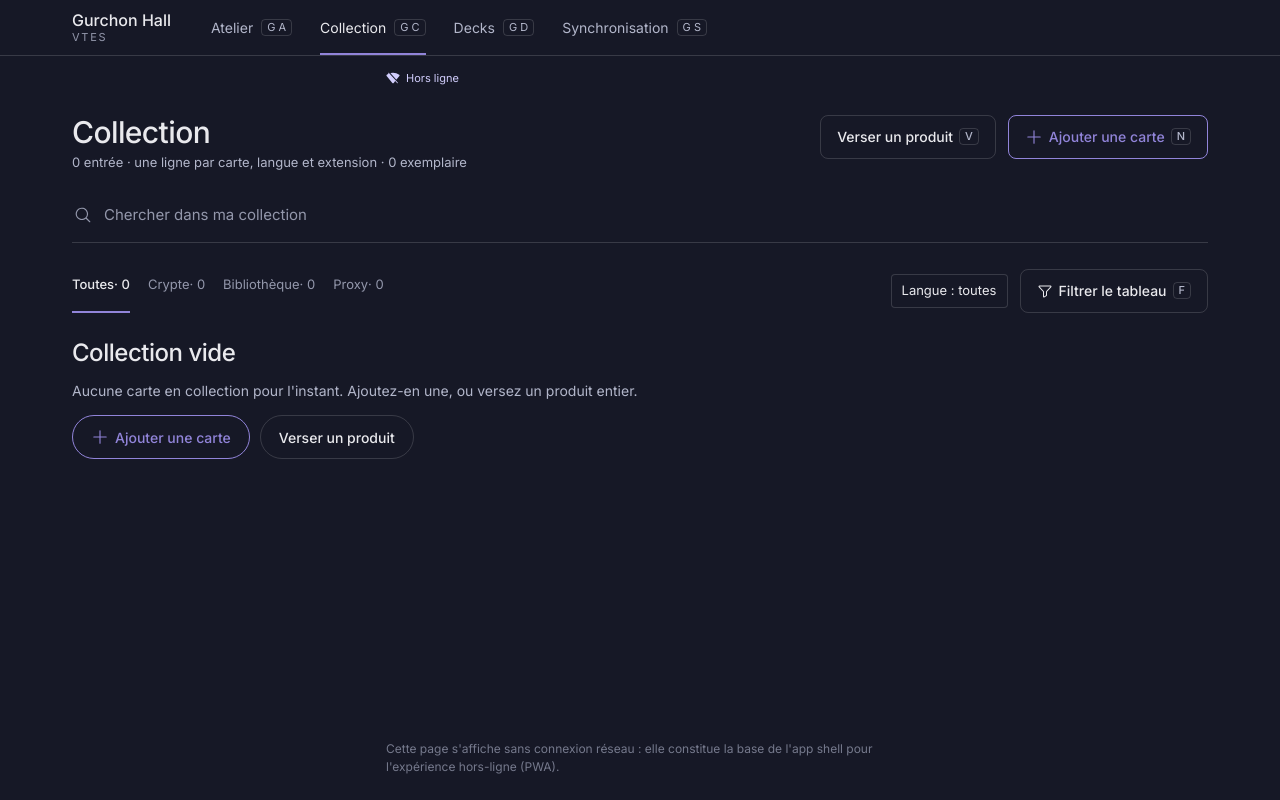
Scenario: collection : saisie hors ligne › enregistre une carte à 0 exemplaire sous sa dernière version, sans demander l'extension (D2a)
The width and height of the screenshot is (1280, 800).
Click the button with test id "stock-add" at [161, 437], box [72,415,250,459]
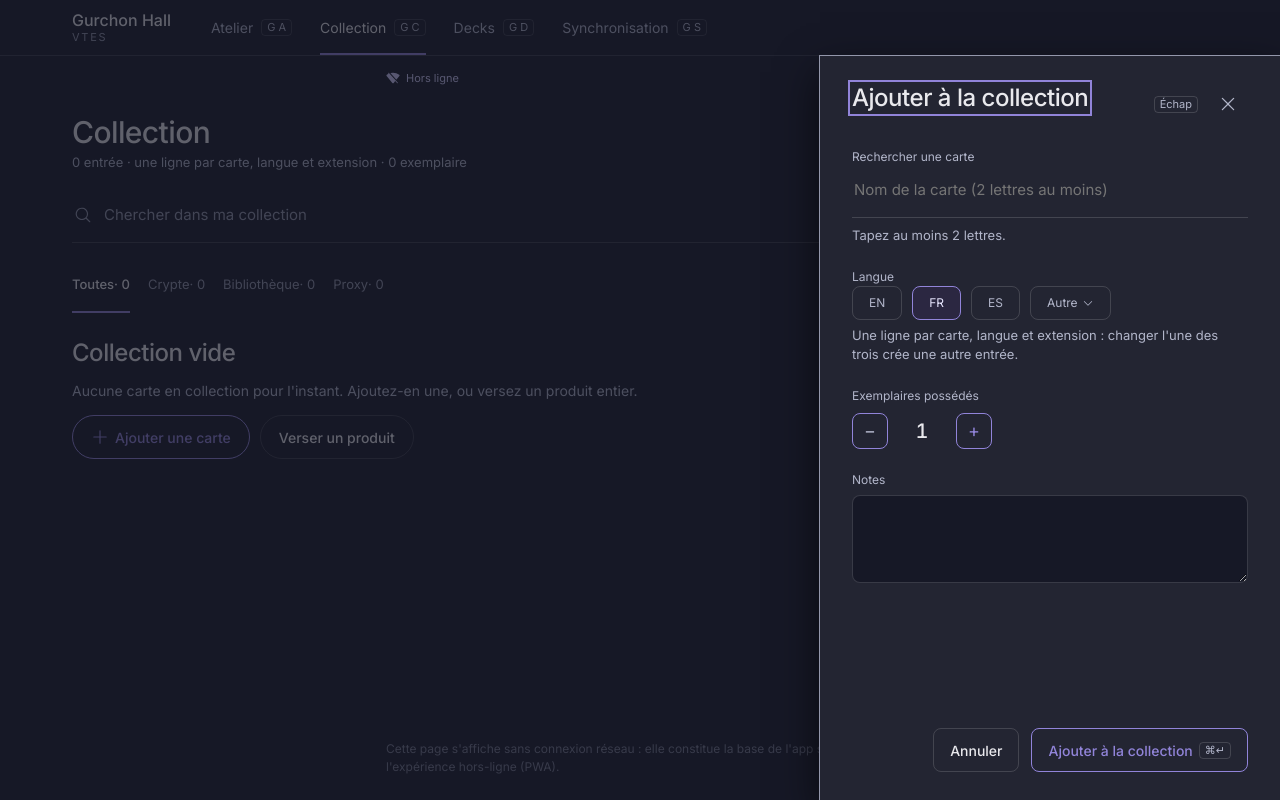
Type "elan" into the search field labelled "Rechercher une carte" at [1050, 196], box [852,174,1248,218]
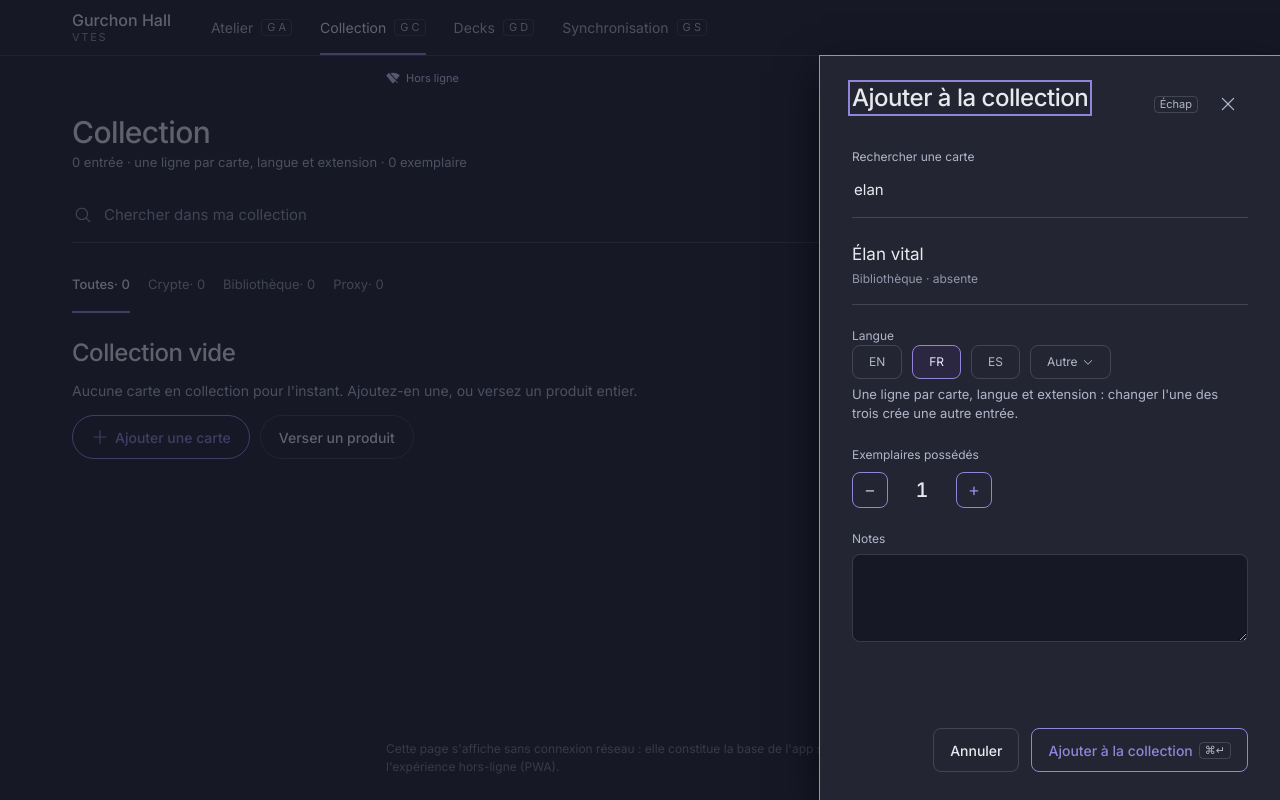
Click the button with test id "card-picker-option" at [888, 254], box [852,226,1248,304]
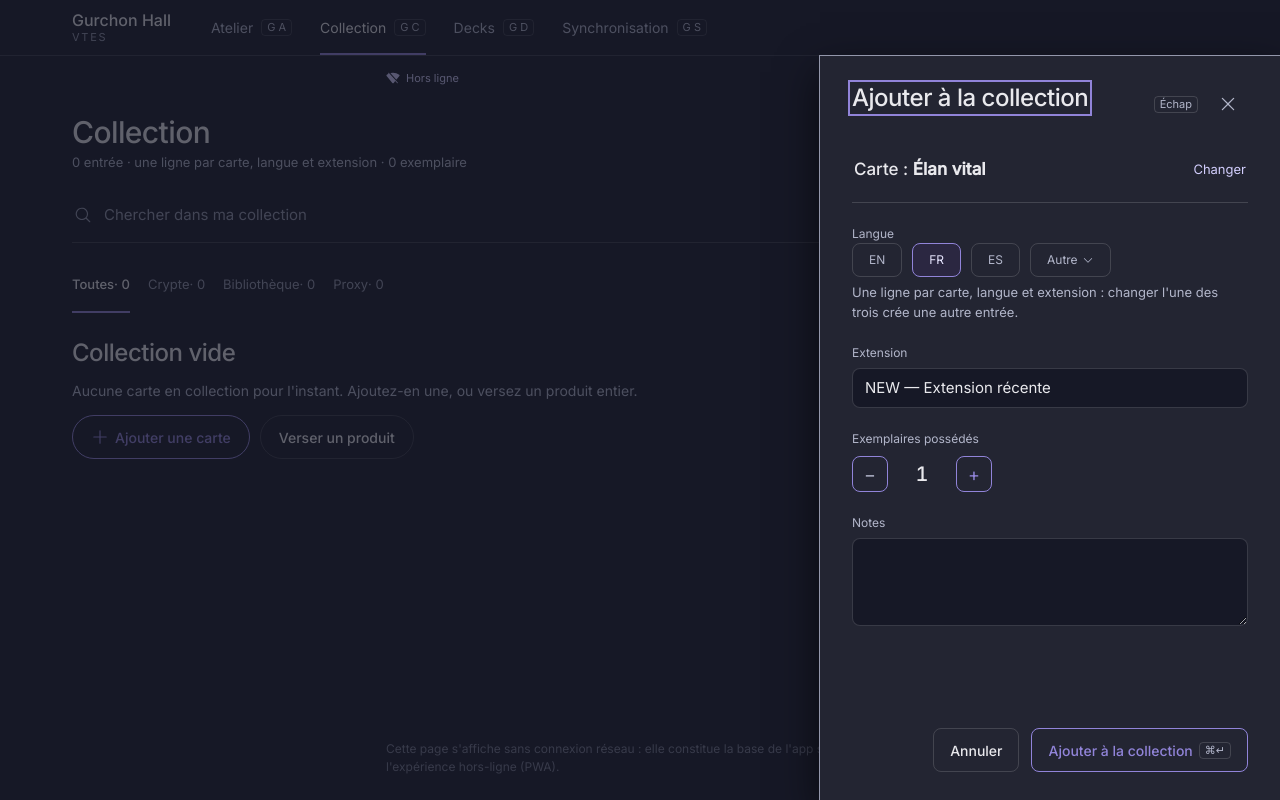
Expected: the element with test id "stock-form-card" is shown, [852,148,1248,203]
Replace the text in the number field labelled "Exemplaires possédés" with "0" at [922, 474], box [898,459,946,489]
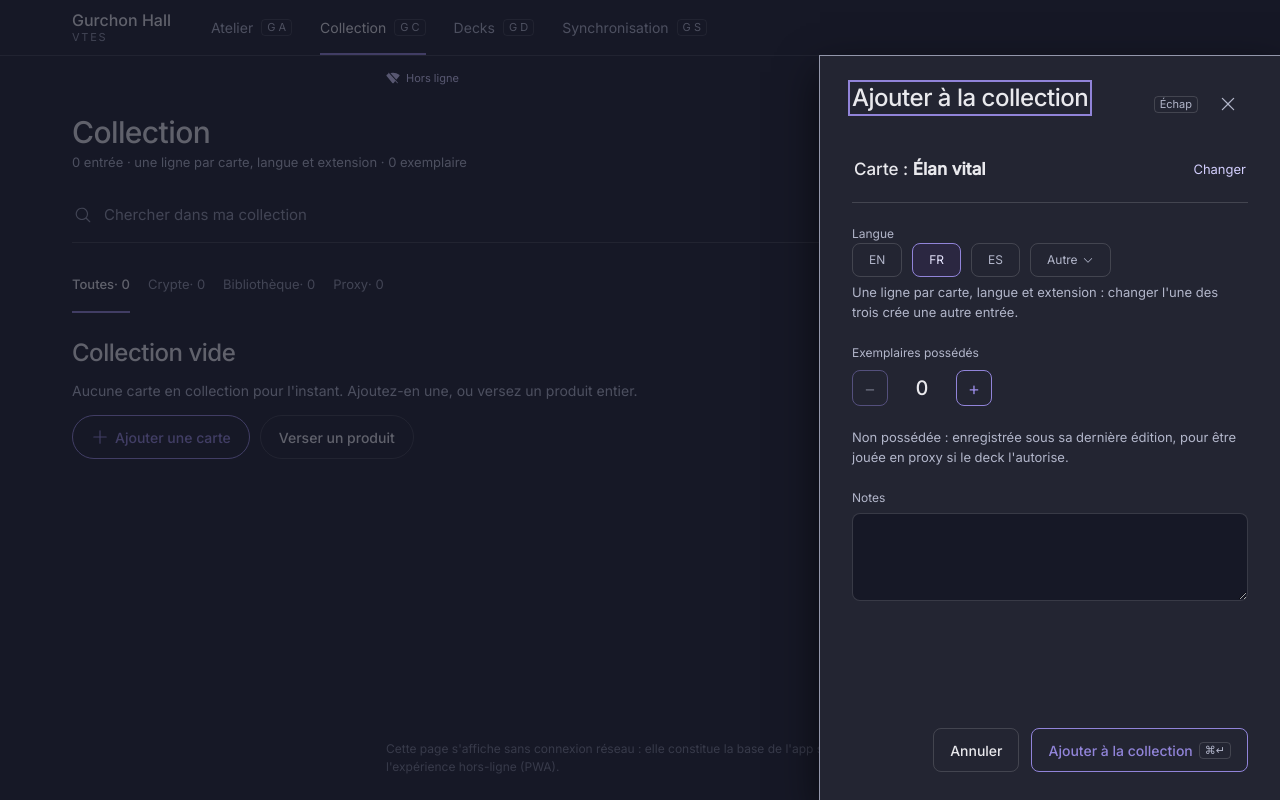
Expected: the dropdown with test id "stock-form-card-set" is gone
Expected: the text with test id "stock-form-proxy-hint" is shown, [852,428,1248,467]
Click the button with test id "stock-form-submit" at [1140, 750], box [1032,728,1248,772]
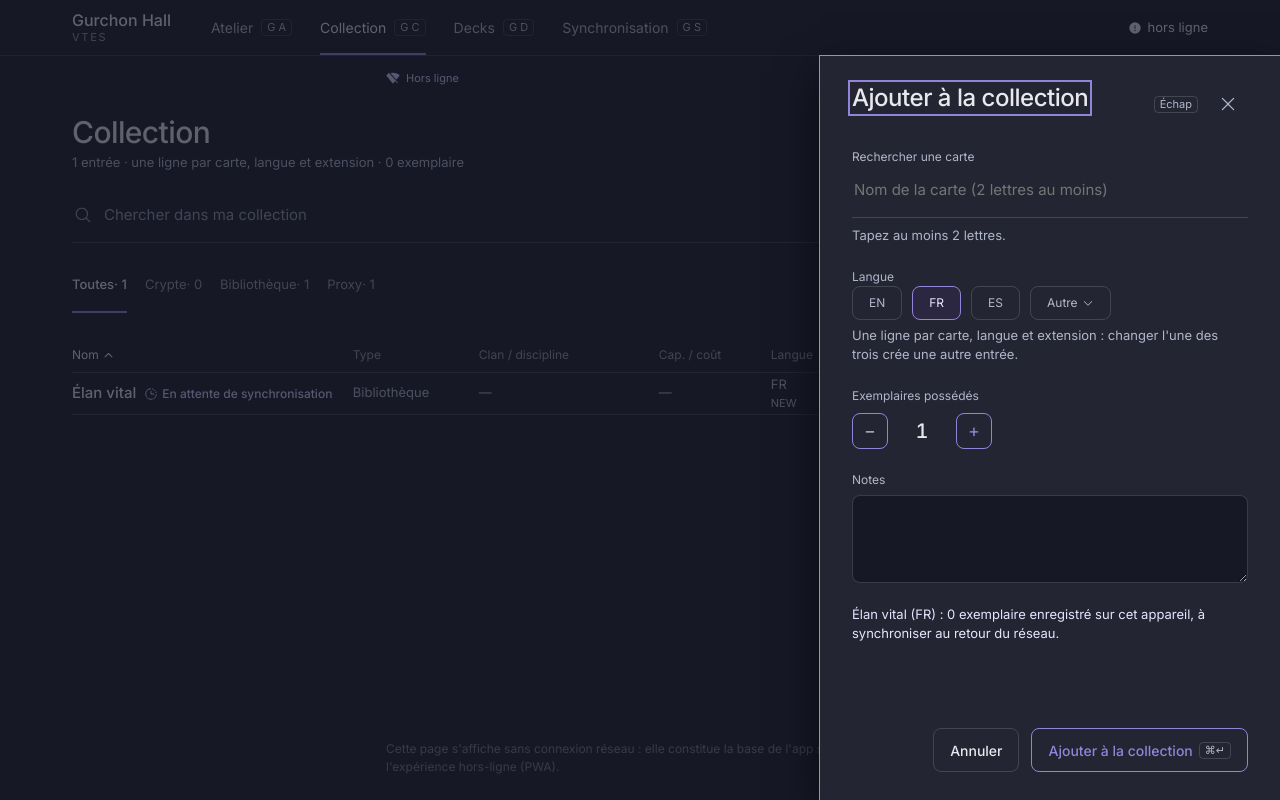
Expected: the row with test id "stock-entry" is shown, [72,372,1208,414]
